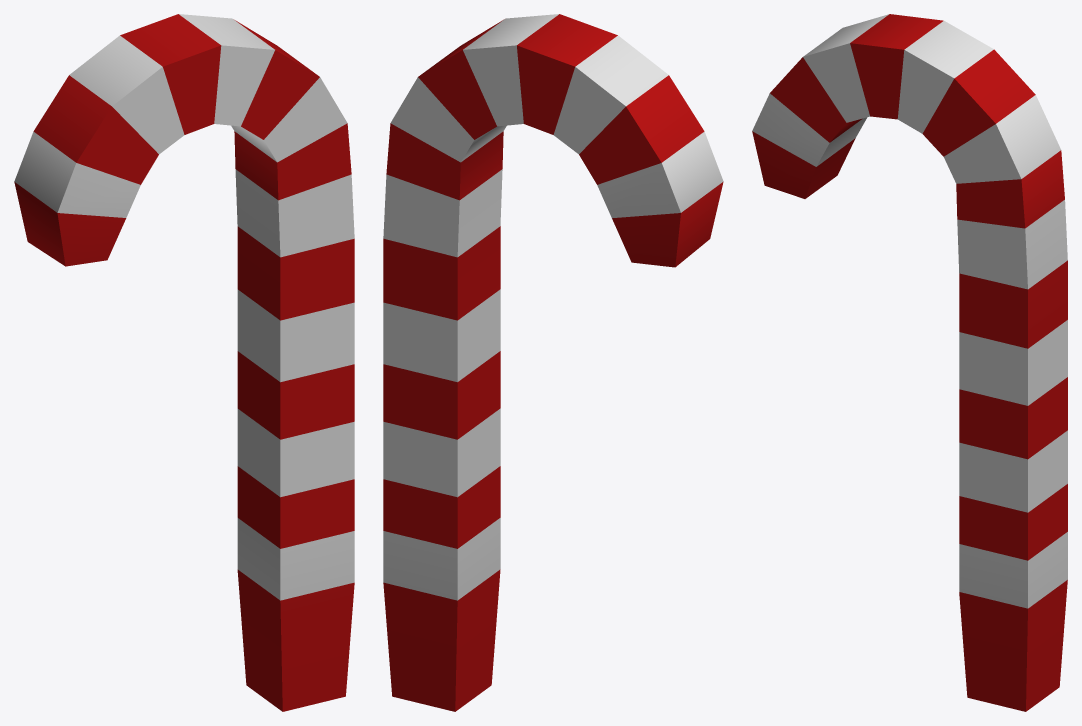
File: candy.fbx
The picture shows the model from 3 angles, left to right: view 1: azimuth 30°, elevation 25°; view 2: azimuth 150°, elevation 25°; view 3: azimuth 330°, elevation 25°; orthographic projection. The views are drawn at different scales.
Visible parts, largest first — view 1: pCube112; view 2: pCube112; view 3: pCube112.
Part boxes in pixels (left/top/right/bottom): pCube112: left=14, top=14, right=354, bottom=711; pCube112: left=383, top=14, right=723, bottom=711; pCube112: left=752, top=14, right=1067, bottom=711.
Bounding box in the file's own units: 0.3799 × 0.8352 × 0.0951.
